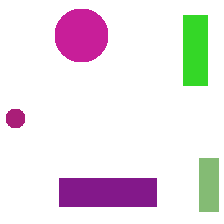circle: (55, 9, 107, 61), (6, 109, 24, 127)
rectangle: (59, 178, 156, 206), (183, 15, 207, 85), (199, 158, 218, 211)
